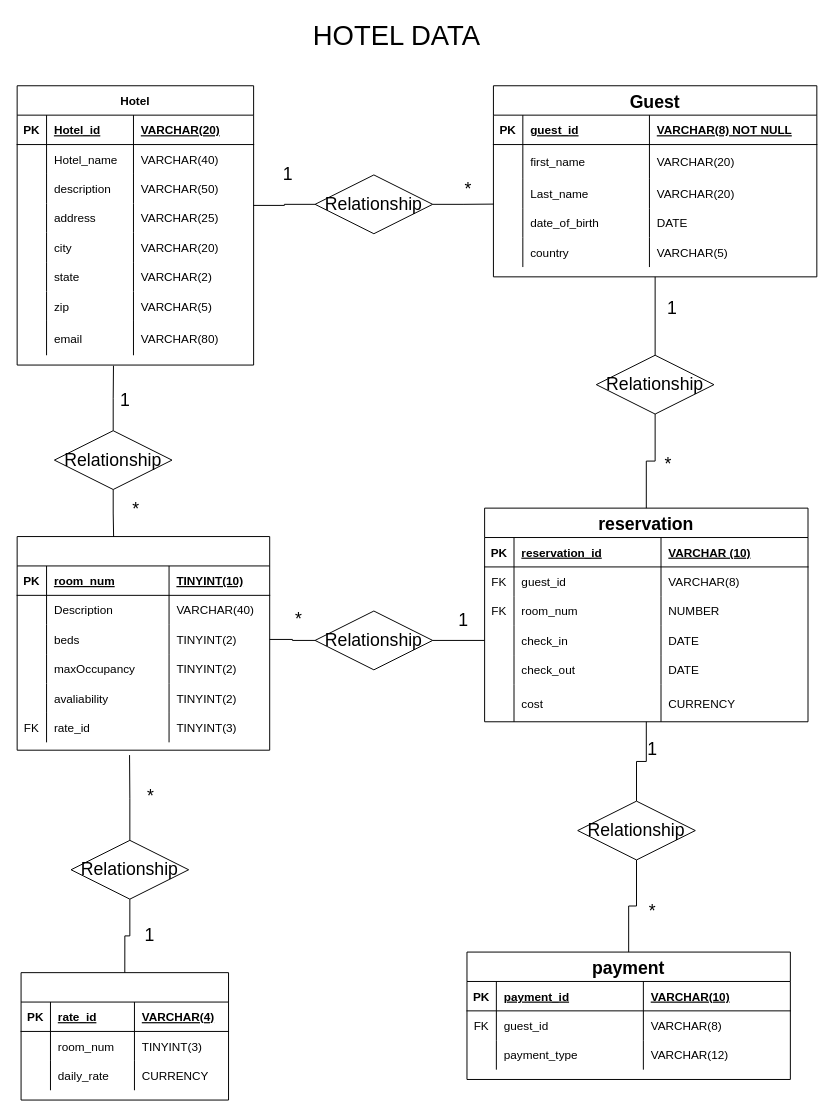
Some shapes in this 834 by 1117 pixel diagram are drawn without their labels. Each missing label, with the box of its shape:
rates: (20, 972, 229, 1100)
rooms: (16, 536, 270, 750)
